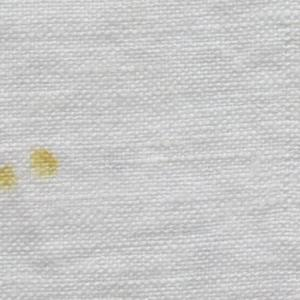Stain: (1, 144, 65, 198)
